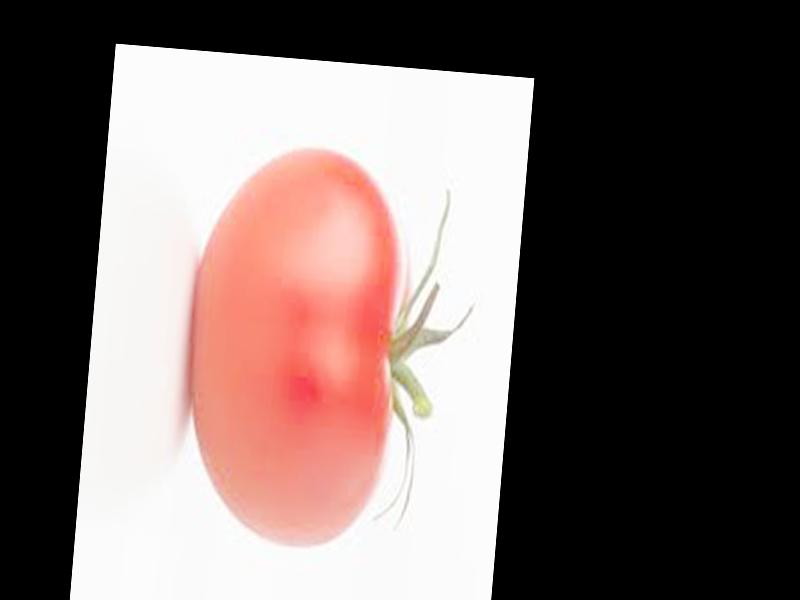Tomato: (176, 139, 413, 550)
